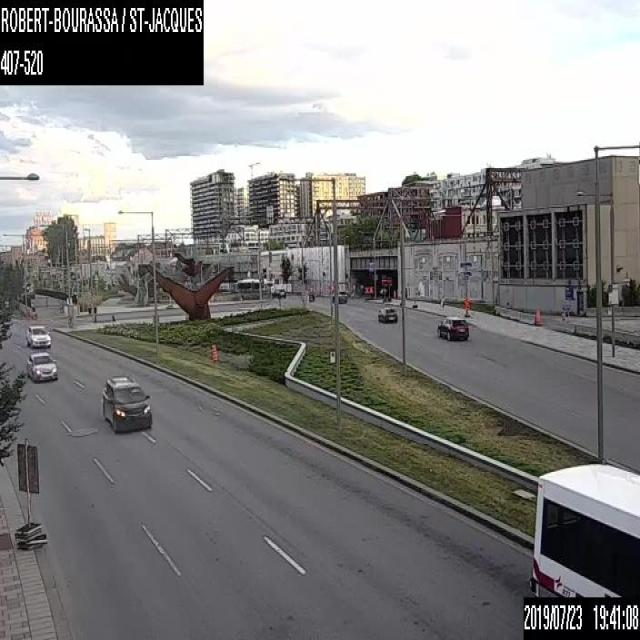bus: (529, 461, 639, 595), (235, 277, 274, 293)
construction: (363, 285, 372, 300), (210, 343, 217, 361), (464, 296, 469, 316), (392, 289, 395, 299)
vehicle: (101, 375, 151, 429), (26, 351, 56, 380), (437, 315, 468, 340), (26, 324, 50, 347), (376, 306, 396, 322), (331, 290, 349, 302), (272, 287, 286, 298), (308, 288, 315, 300)
